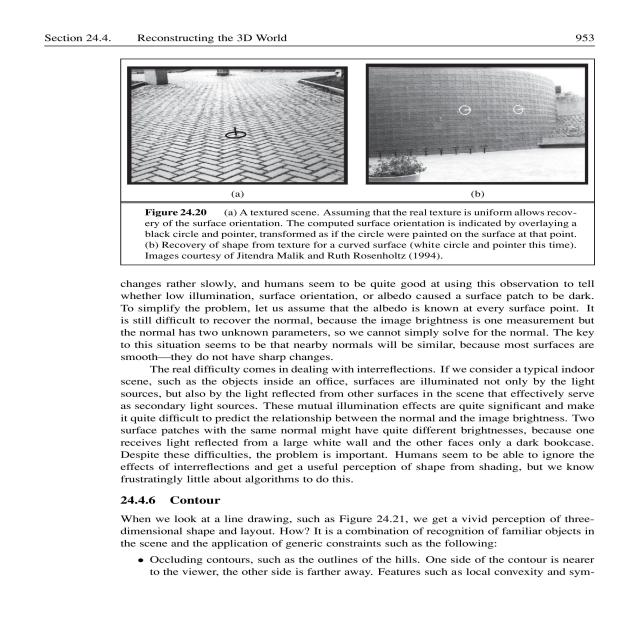diagram: (119, 56, 591, 263)
